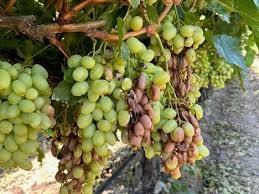Grape Rotten: (0, 8, 234, 194), (52, 53, 132, 193), (0, 60, 55, 171)
